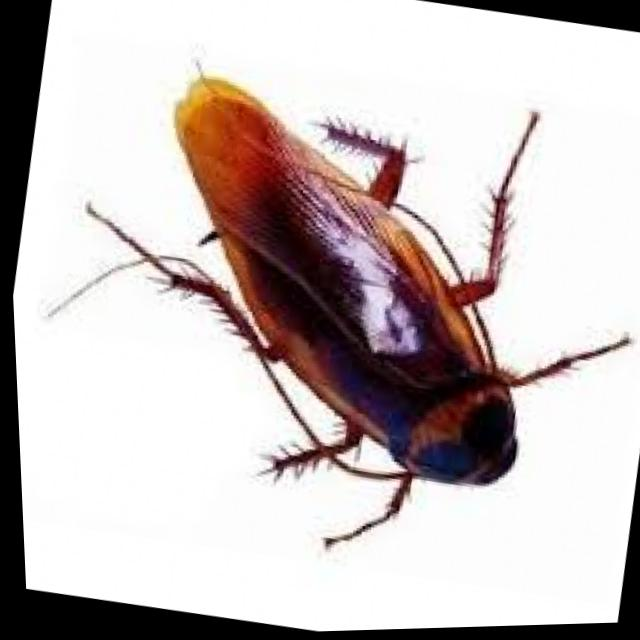Cockroach: (1, 18, 640, 630)
